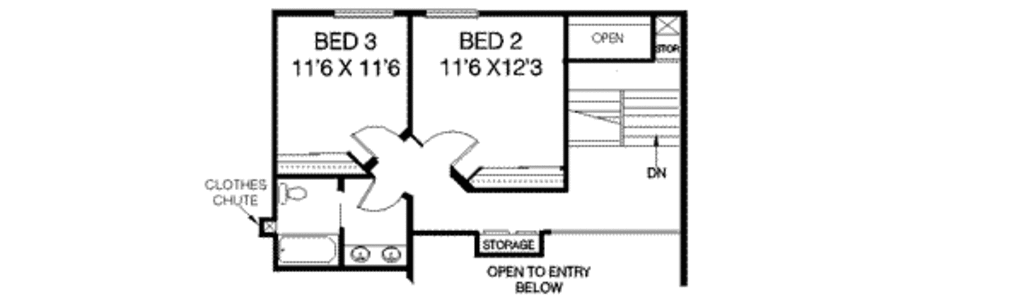door: (418, 121, 478, 167), (356, 177, 414, 213), (341, 120, 402, 154)
large_sink: (279, 180, 308, 208)
small_sink: (336, 242, 416, 268)
stairs: (570, 62, 684, 150)
tub: (275, 236, 345, 271)
window: (334, 6, 394, 20), (423, 7, 478, 21)
